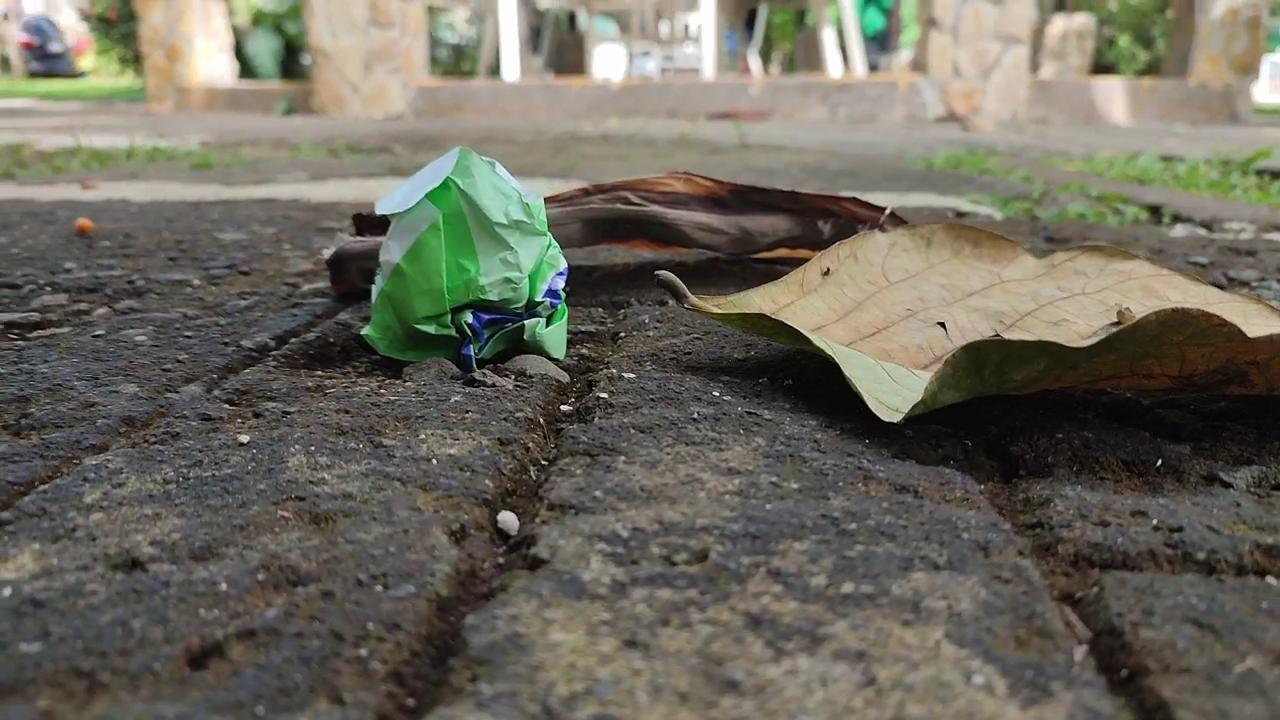Paper: (343, 133, 581, 381)
